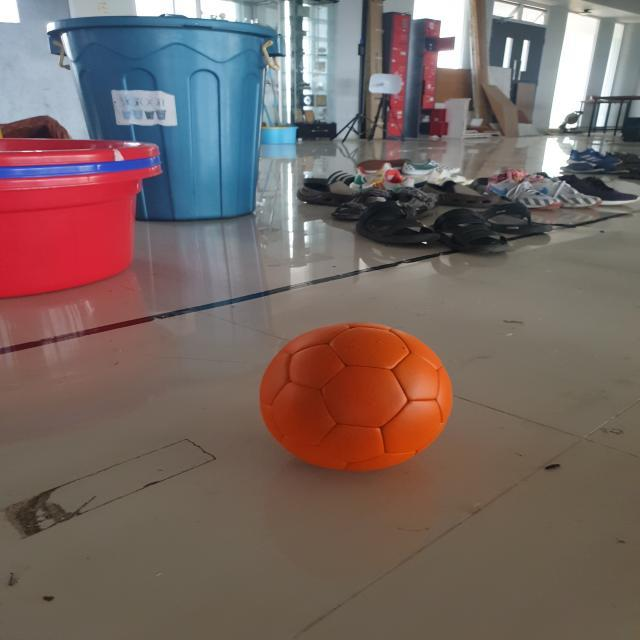bola: (246, 312, 469, 484)
